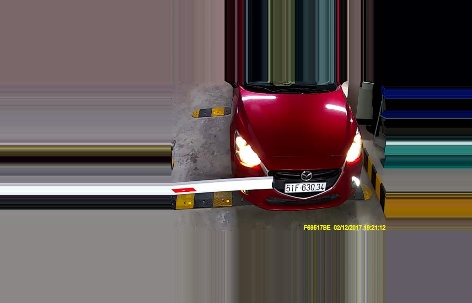plate: (281, 181, 327, 194)
